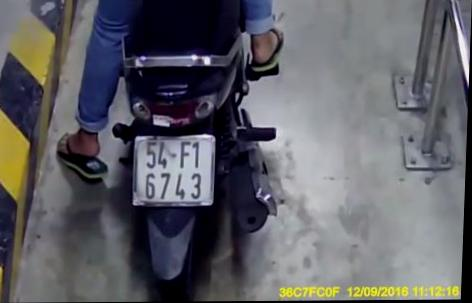License_Plate: (126, 127, 224, 210)
